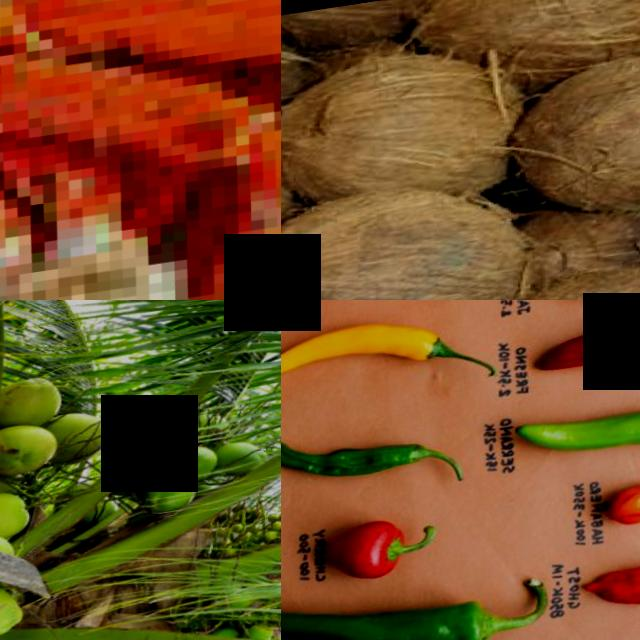chilli: (281, 561, 522, 640), (281, 304, 465, 400), (281, 415, 456, 495), (521, 384, 640, 467), (533, 303, 640, 385), (594, 552, 640, 616)
coconut: (281, 37, 528, 211), (281, 172, 533, 300), (503, 38, 640, 219), (407, 0, 640, 85)
coconuts: (0, 369, 118, 493)
crab: (0, 0, 281, 113)
